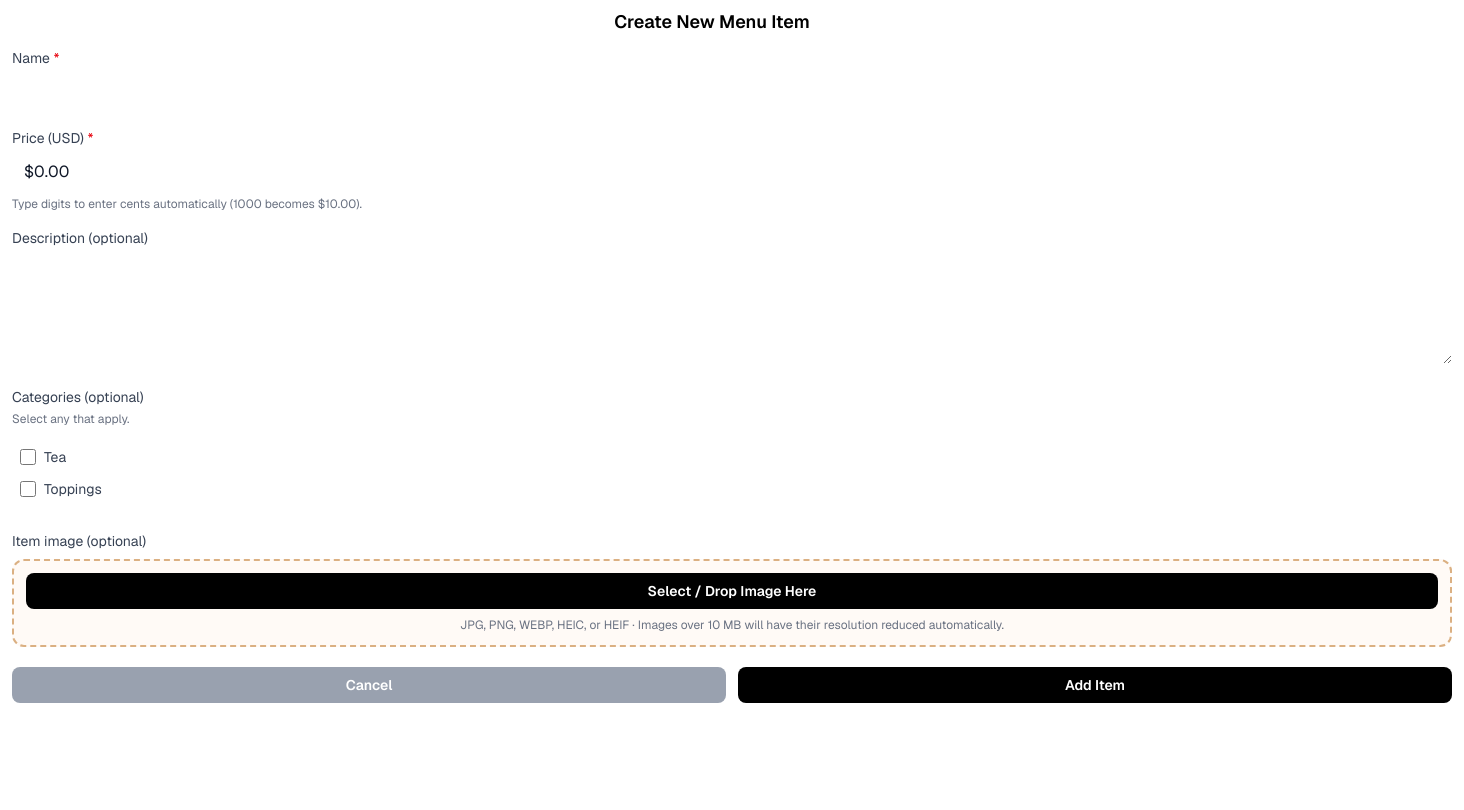
Scenario: Admin Menu Item Form › Currency formatting › supports mobile-style input changes without keydown events
Replace the text in the field labelled "Price (USD) *" with "1000" at (732, 172), box [12,152,1452,192]
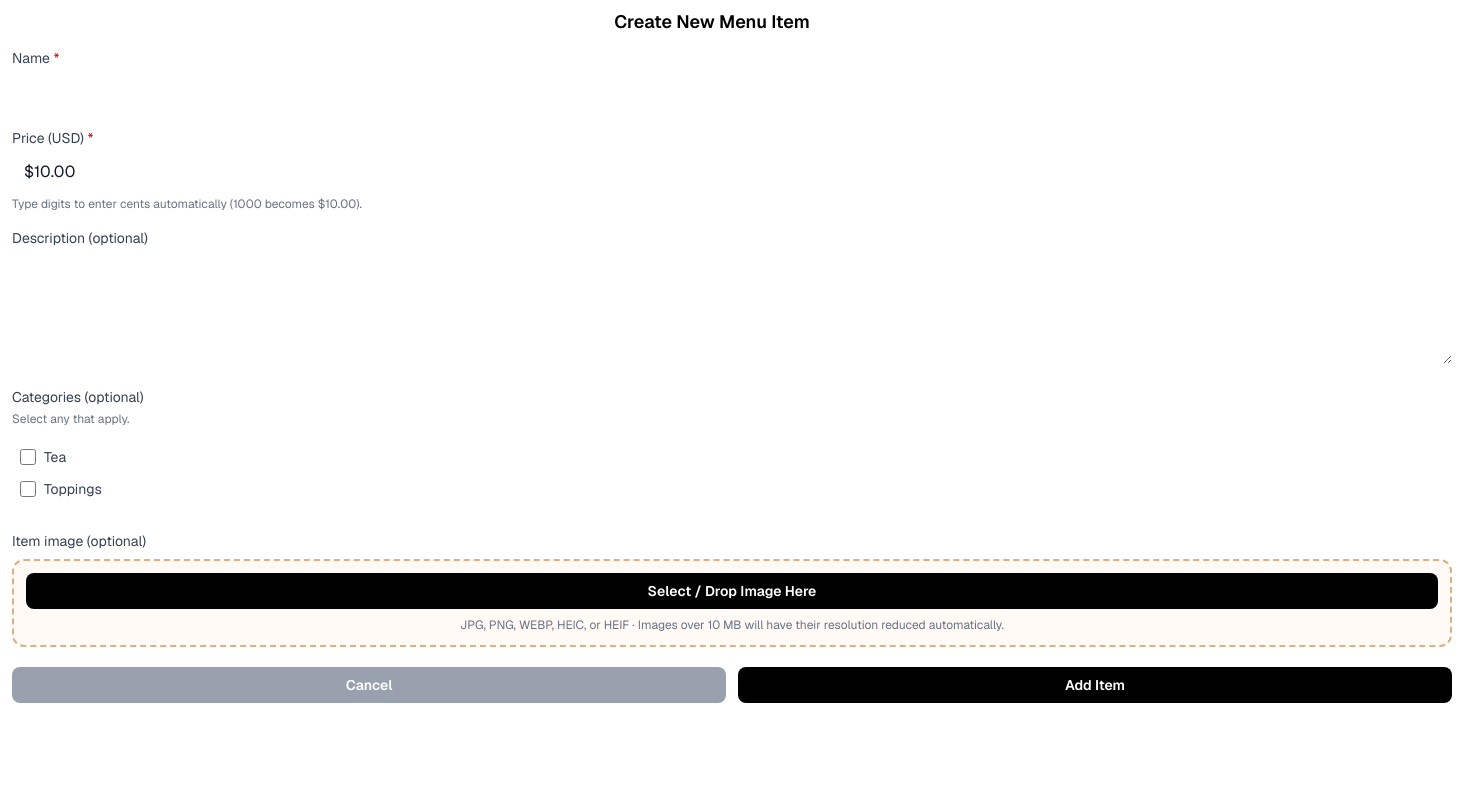
Expected: the field labelled "Price (USD) *" holds "$10.00", [12,152,1452,192]
